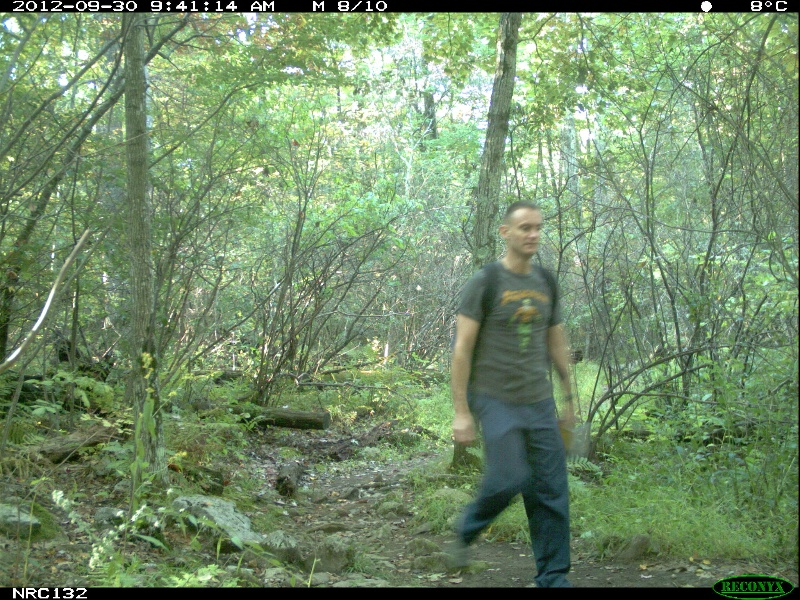human: (442, 194, 587, 591)
human face: (500, 207, 545, 262)
human legs: (449, 392, 579, 591)
